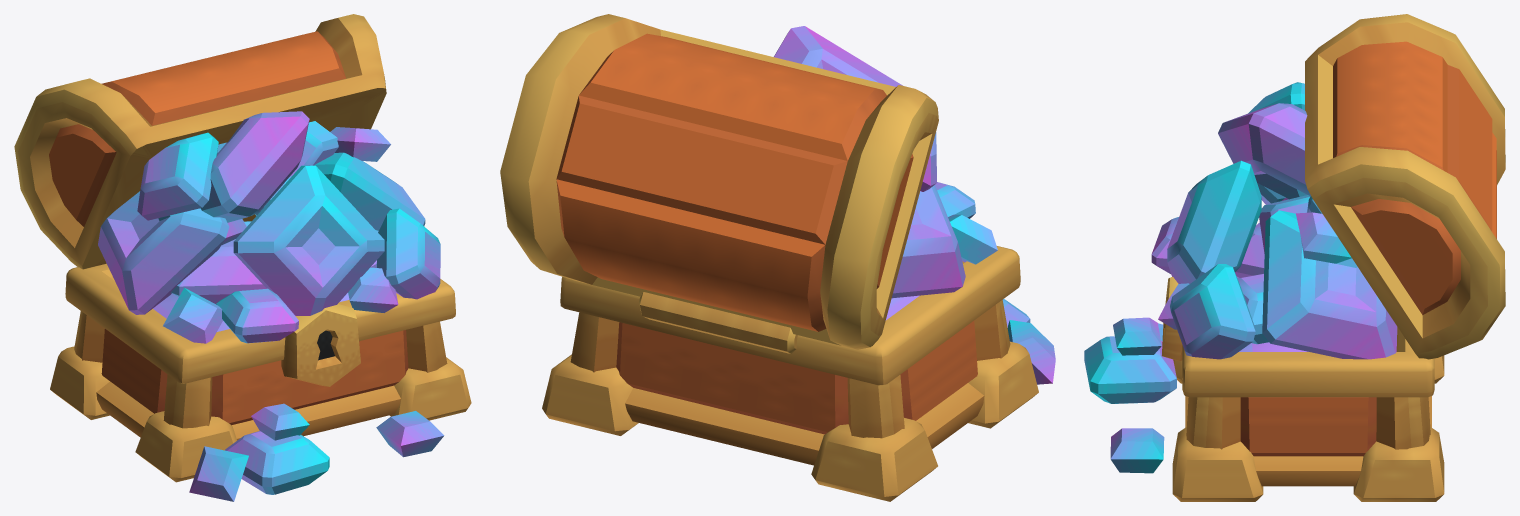
The model's file is gems-chest.glb.
The picture shows the model from 3 angles, left to right: view 1: azimuth 30°, elevation 25°; view 2: azimuth 150°, elevation 25°; view 3: azimuth 270°, elevation 25°; orthographic projection. The views are drawn at different scales.
Visible parts, largest first — view 1: Gems_Chest; view 2: Gems_Chest; view 3: Gems_Chest.
Boxes of the visible parts, bbox=[...] form: Gems_Chest: bbox=[14, 14, 471, 501]; Gems_Chest: bbox=[500, 14, 1055, 501]; Gems_Chest: bbox=[1084, 14, 1505, 501].
Size of the model in its own units: 1.55 by 1.52 by 1.68.
Materials: 1 (1 with a texture image).
